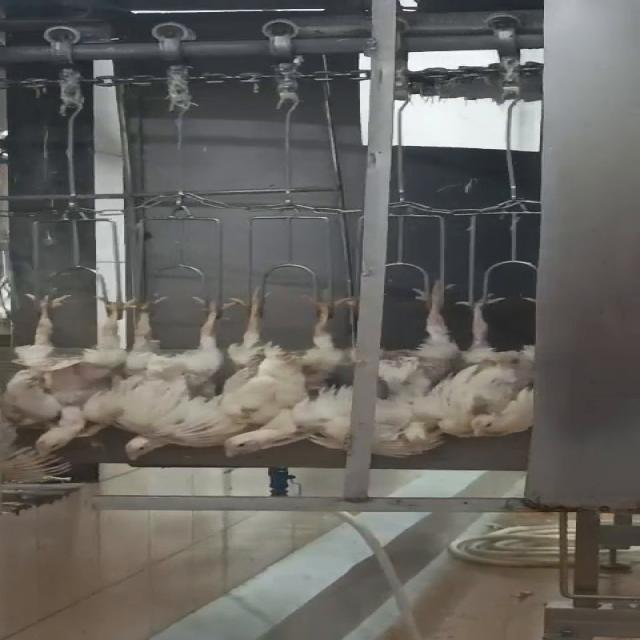chicken: (217, 284, 360, 462), (115, 288, 242, 464), (0, 290, 128, 460), (375, 272, 459, 462), (455, 285, 555, 441)
